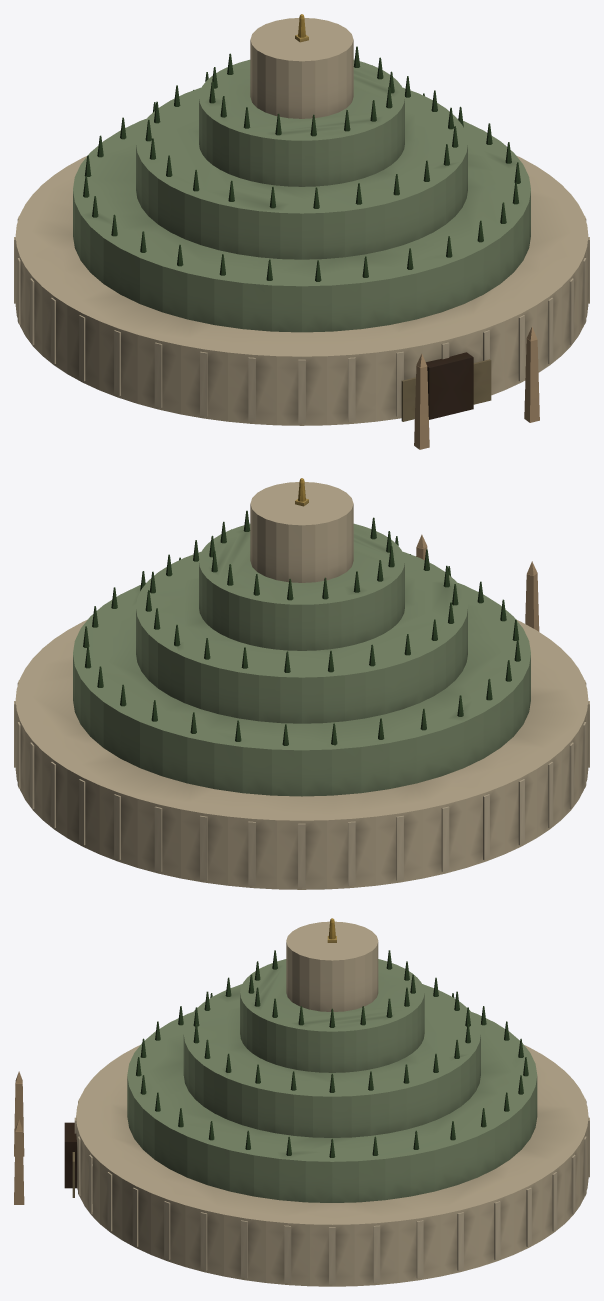
File: mausoleum-of-augustus.glb
The picture shows the model from 3 angles, top to bottom: view 1: azimuth 30°, elevation 25°; view 2: azimuth 150°, elevation 25°; view 3: azimuth 270°, elevation 25°; orthographic projection. The views are drawn at different scales.
Visible parts, largest first — view 1: p1_terraces, p0_drum, p2_summit; view 2: p1_terraces, p0_drum, p2_summit; view 3: p1_terraces, p0_drum, p2_summit.
Boxes of the visible parts, <box> form: p1_terraces: <box>73,46,530,332</box>; p0_drum: <box>14,155,589,449</box>; p2_summit: <box>250,14,353,118</box>; p1_terraces: <box>73,510,530,796</box>; p0_drum: <box>14,534,589,889</box>; p2_summit: <box>250,478,353,582</box>; p1_terraces: <box>127,950,537,1202</box>; p0_drum: <box>14,1045,589,1286</box>; p2_summit: <box>286,918,378,1011</box>.
Size of the model in its own units: 90.5 by 50.46 by 101.
